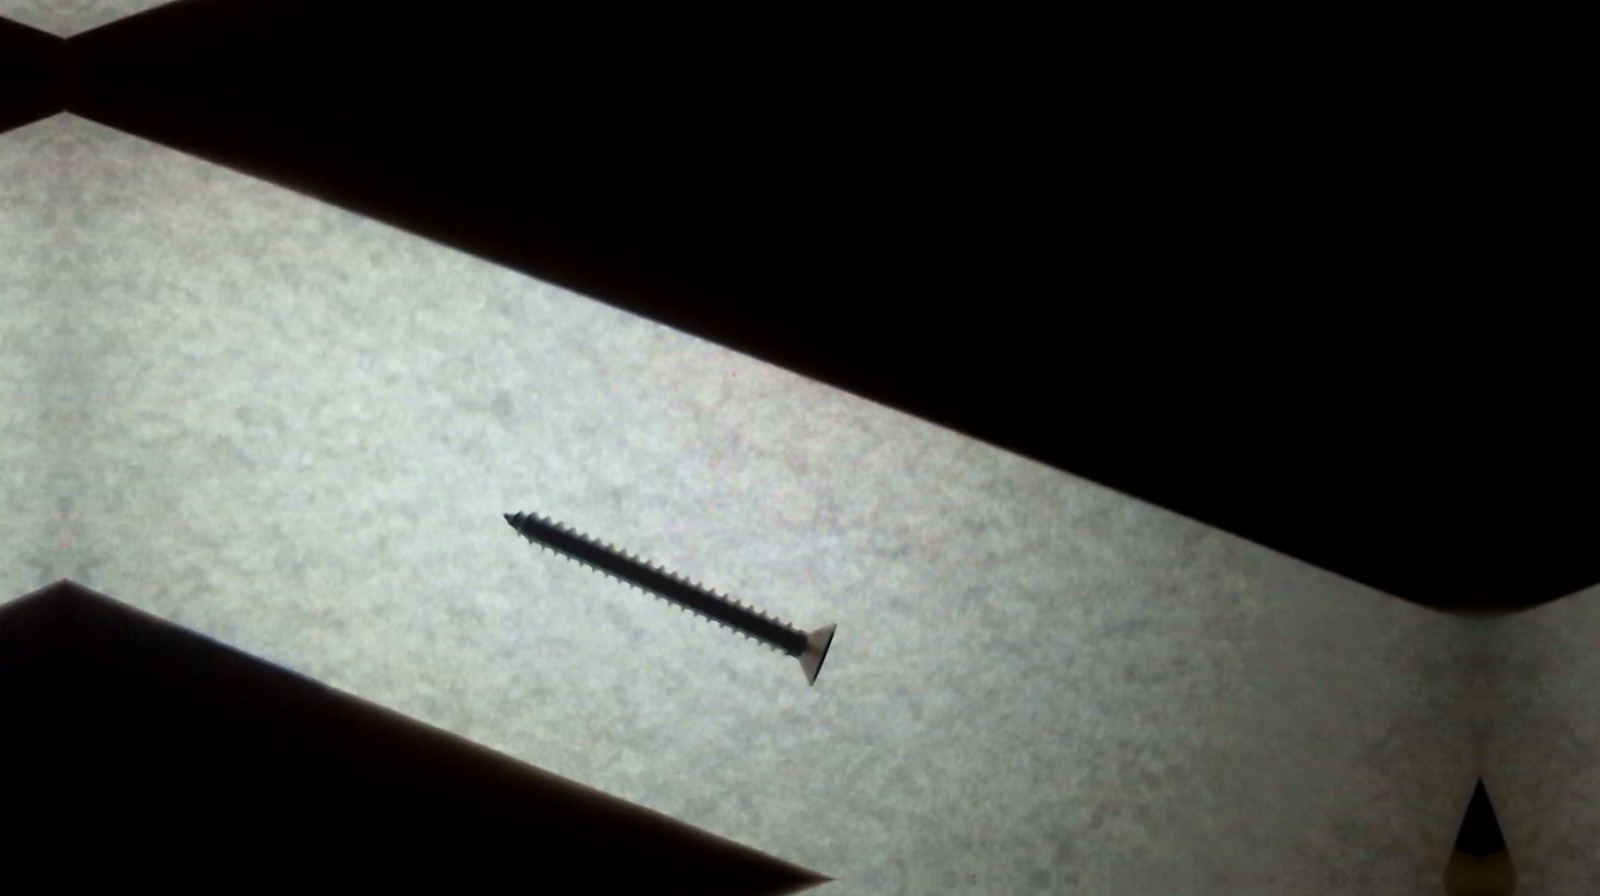S002: (478, 495, 857, 695)
